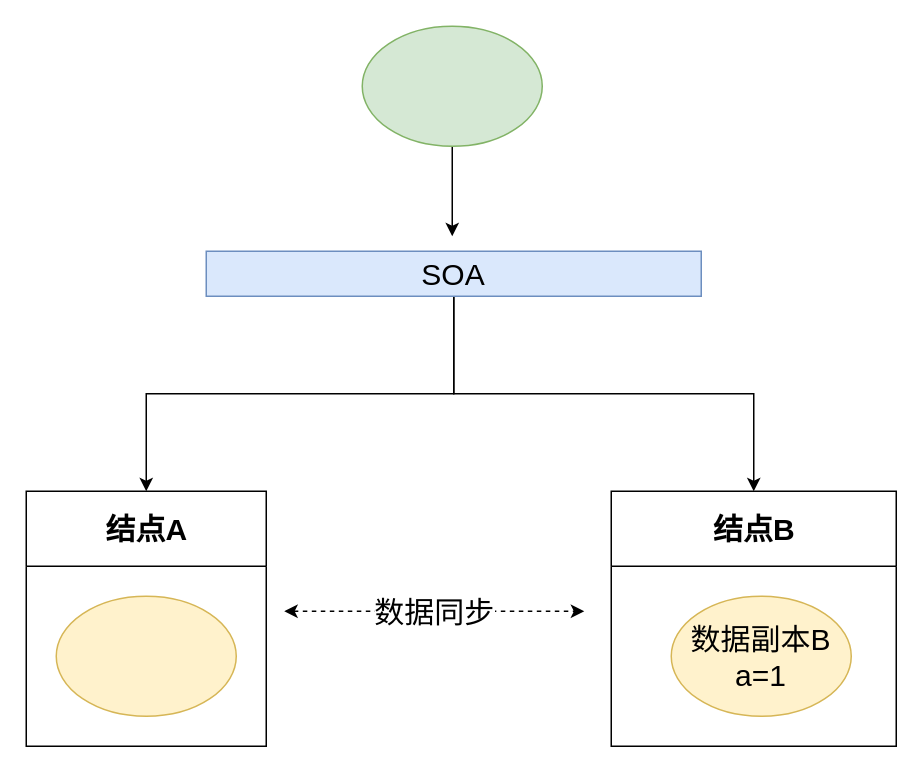
The diagram is 923 pixels wide and 773 high, and some of its shapes have lost their labels. Each missing label, with the centre of its shape:
"客户端" belongs at pixel 451 85.
"数据副本A a=1" belongs at pixel 145 655.
